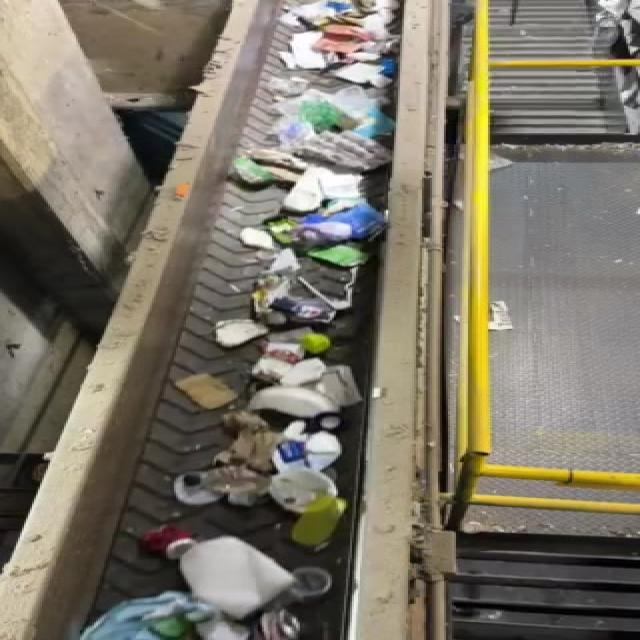hdpe: (165, 540, 308, 616)
metal: (124, 527, 205, 559)
paper: (190, 417, 271, 509)
pp: (274, 476, 366, 542), (272, 420, 347, 476)
